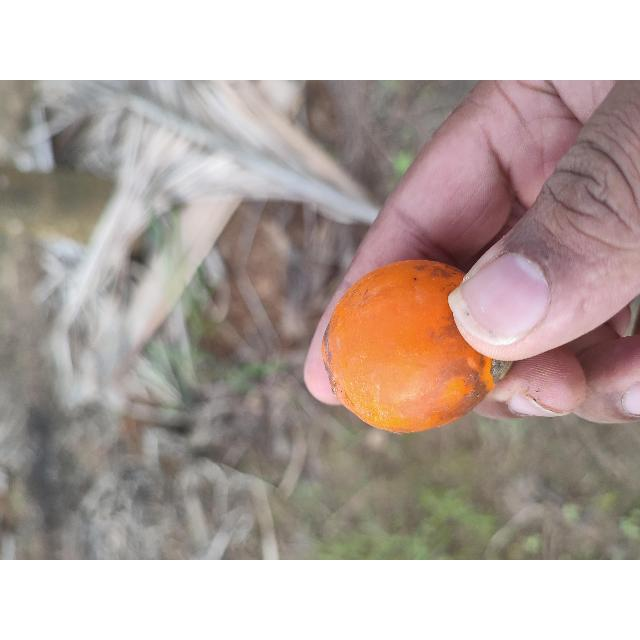good: (320, 260, 514, 435)
